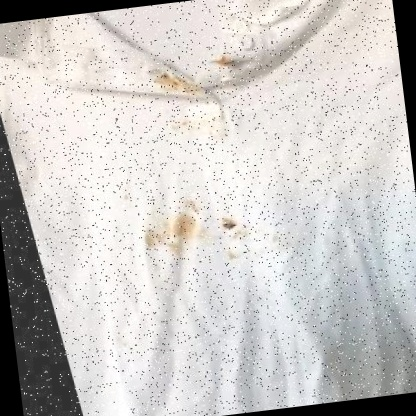coffee: (172, 213, 197, 238), (159, 74, 185, 90)
